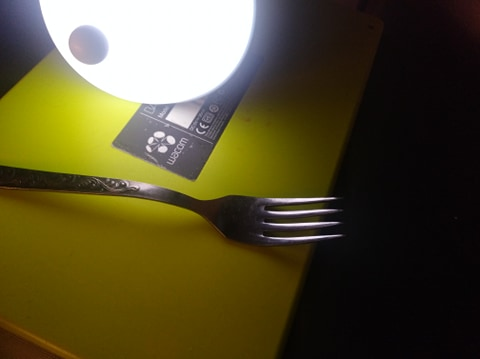Widelec: (193, 184, 347, 264)
